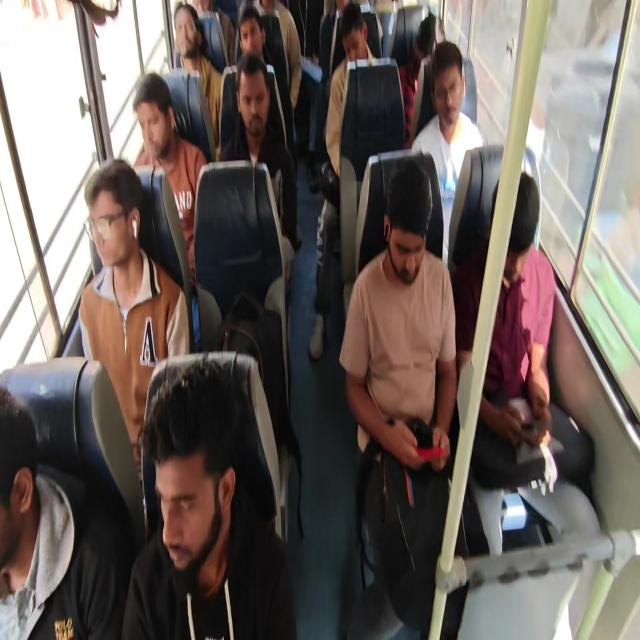person: (134, 338, 370, 640), (376, 168, 473, 419), (494, 140, 564, 394), (0, 388, 55, 640), (73, 152, 157, 316), (133, 70, 184, 186), (241, 54, 285, 169), (426, 45, 469, 160), (278, 0, 322, 68), (234, 18, 280, 82), (342, 19, 372, 85), (170, 0, 202, 57), (405, 10, 435, 61), (331, 0, 352, 31), (262, 0, 290, 19), (194, 0, 220, 18)
